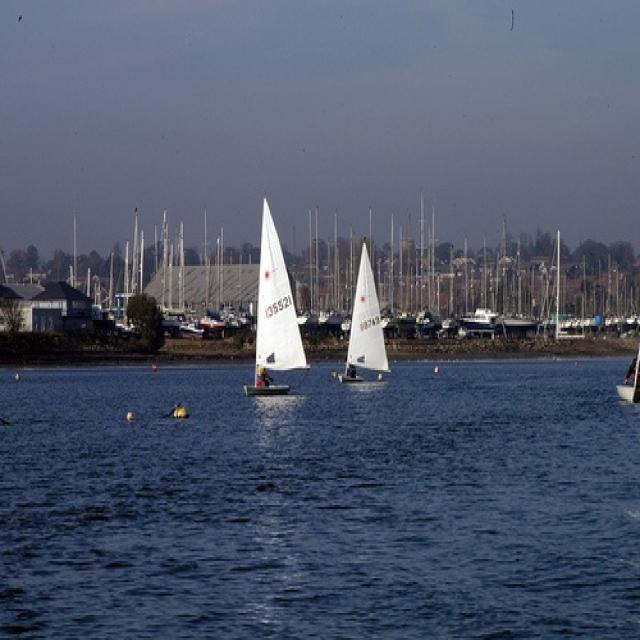boat: (242, 200, 311, 396), (334, 242, 391, 392), (615, 352, 640, 406)
